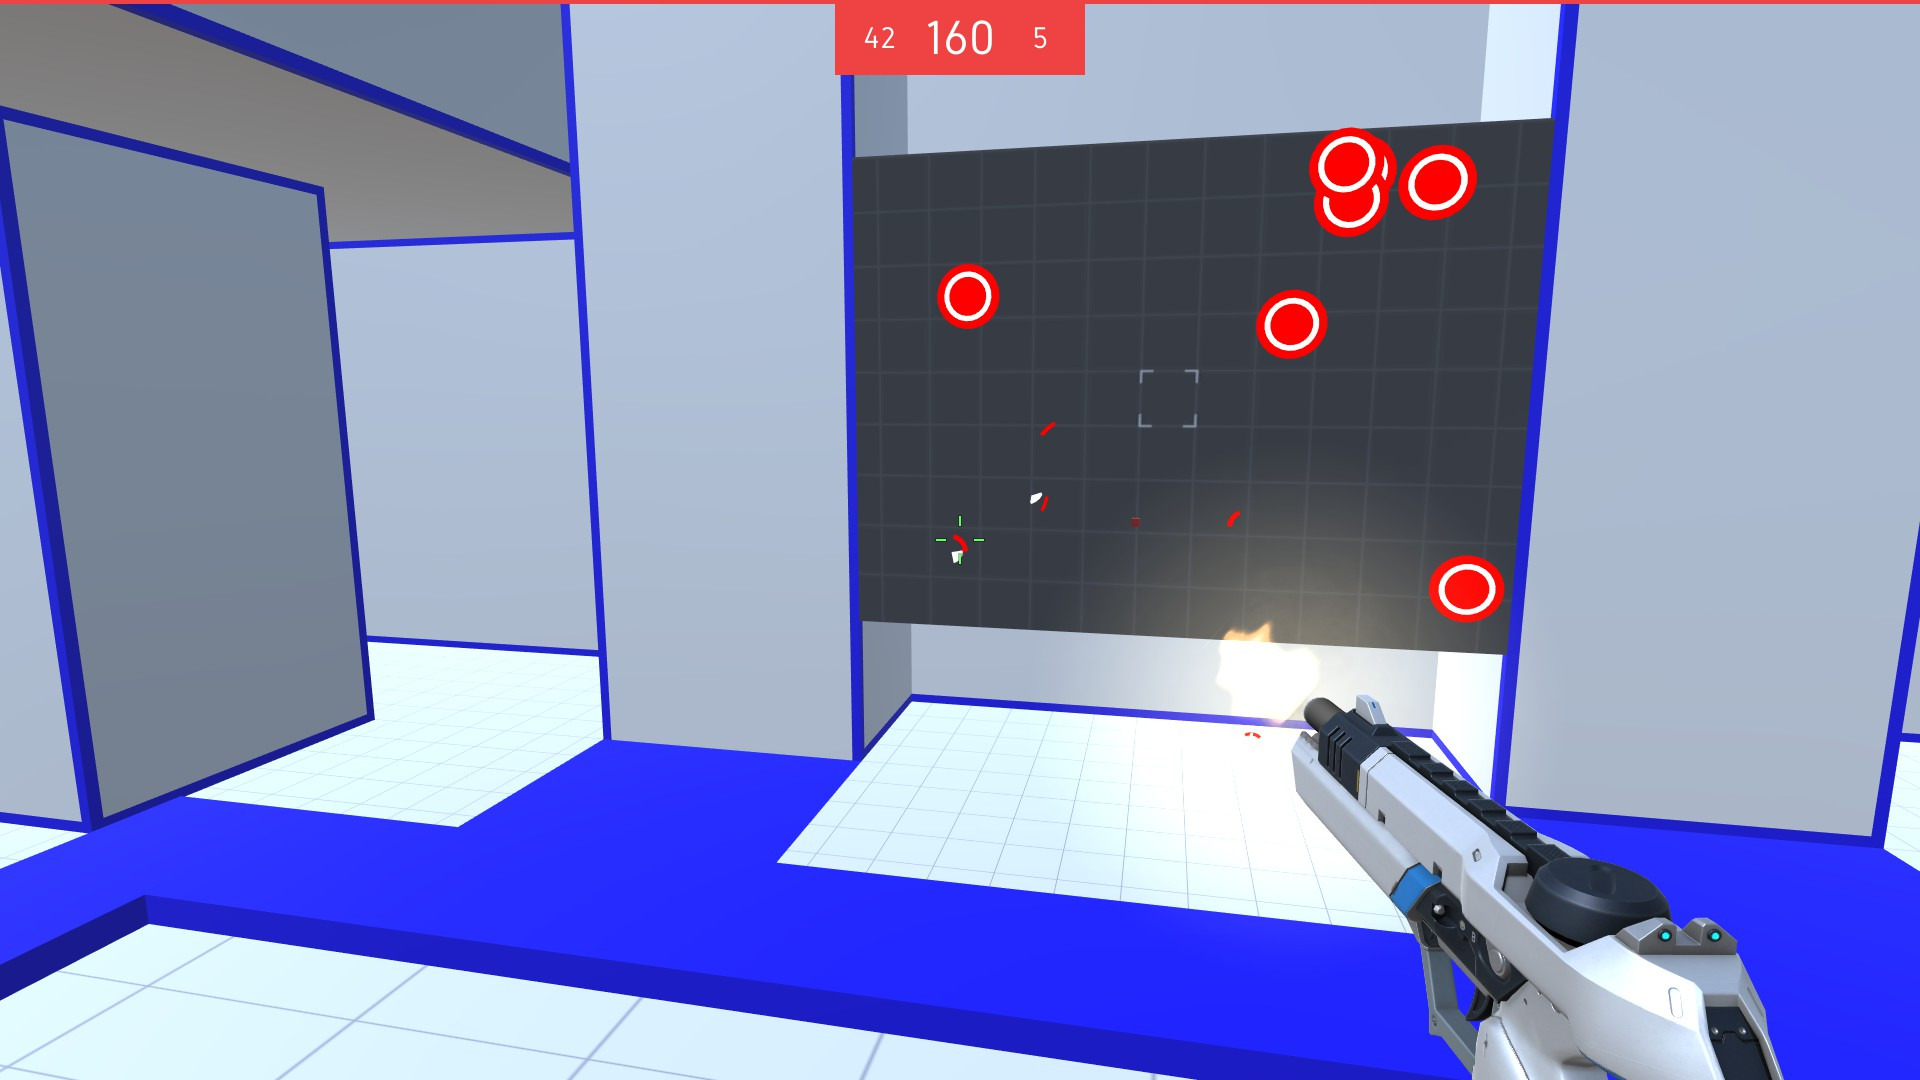target: (1396, 145, 1477, 225), (1254, 285, 1336, 363), (1424, 553, 1506, 622), (1305, 128, 1383, 200), (1309, 170, 1386, 241), (936, 260, 1004, 334)
